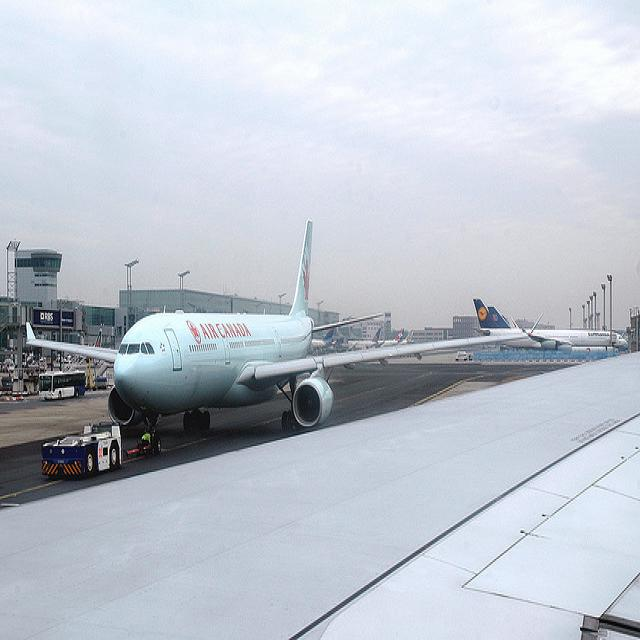Vehicle: (41, 420, 123, 480), (38, 370, 87, 400), (455, 350, 467, 362)
